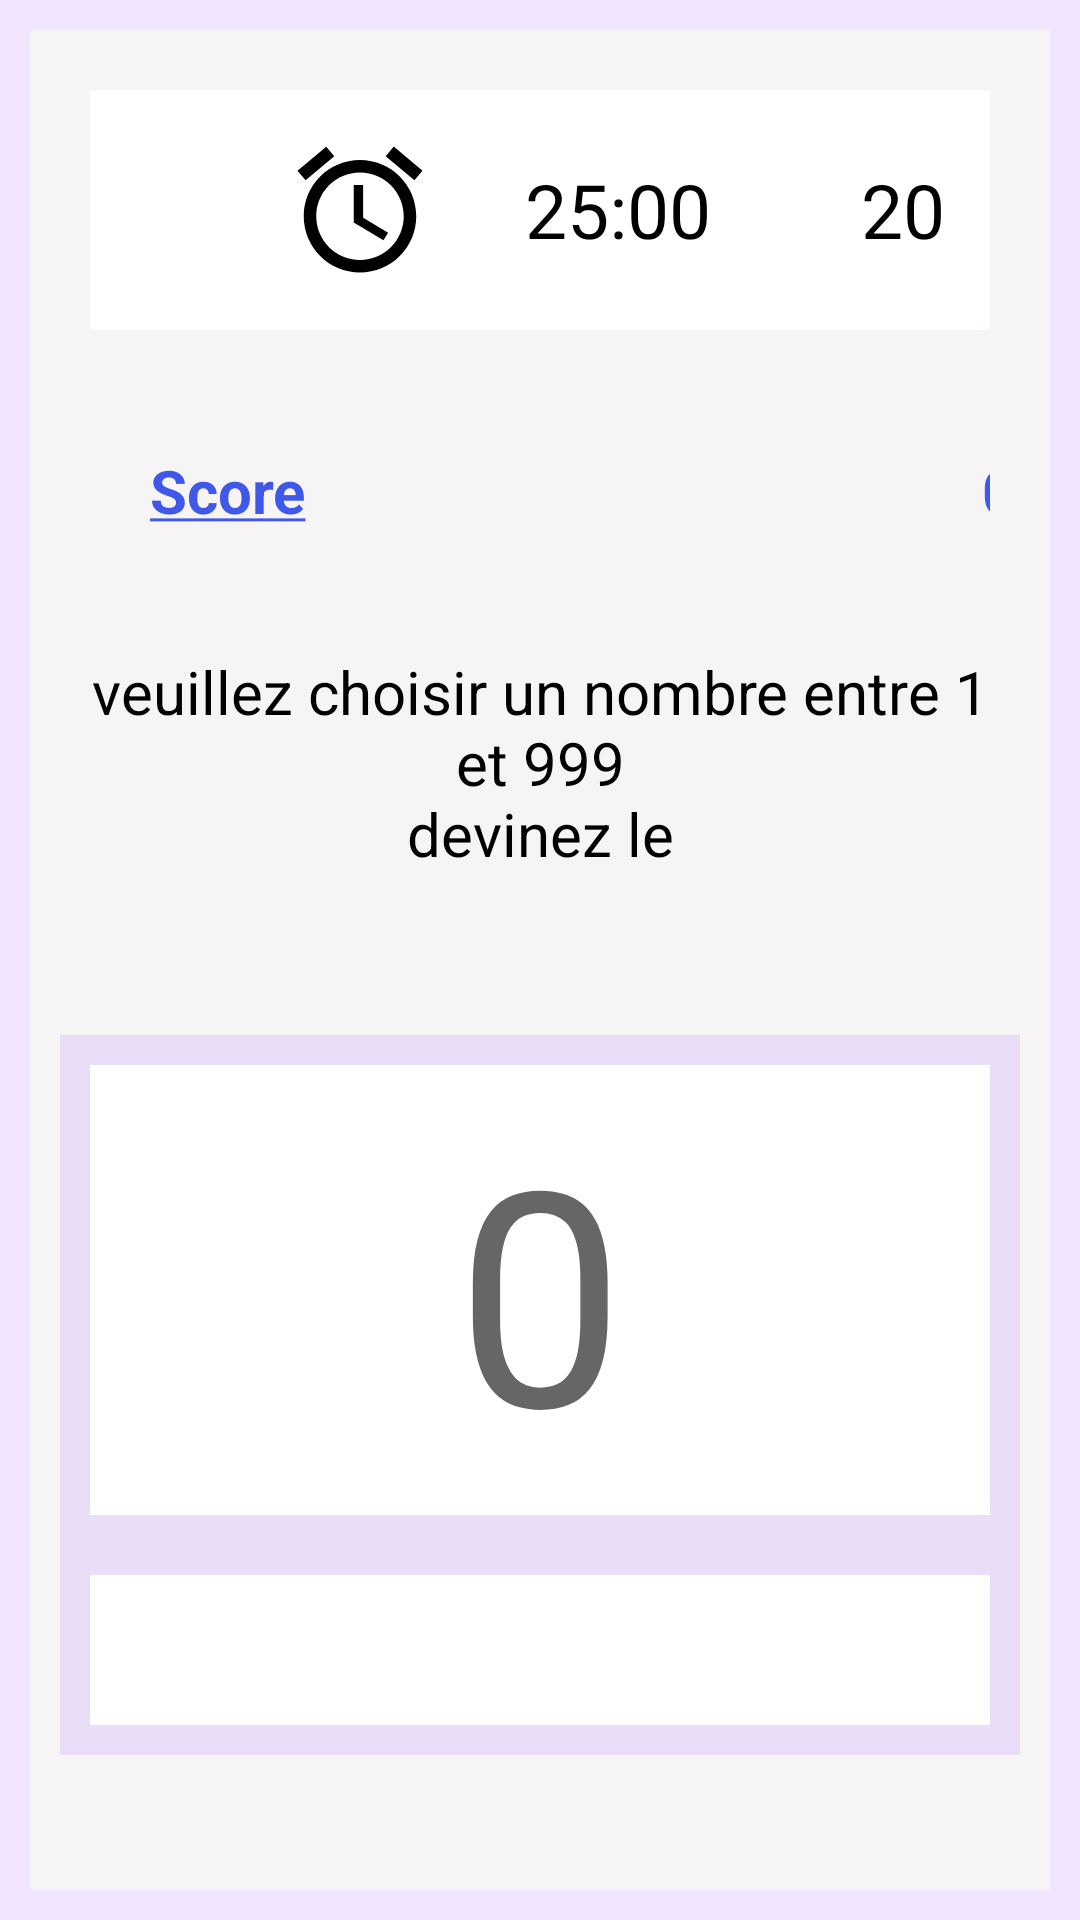

Named icons in this screenshot (1080*1920) and their bounding boxes, (x1, y1, x2, y2):
alarm: (297, 146, 423, 273)
